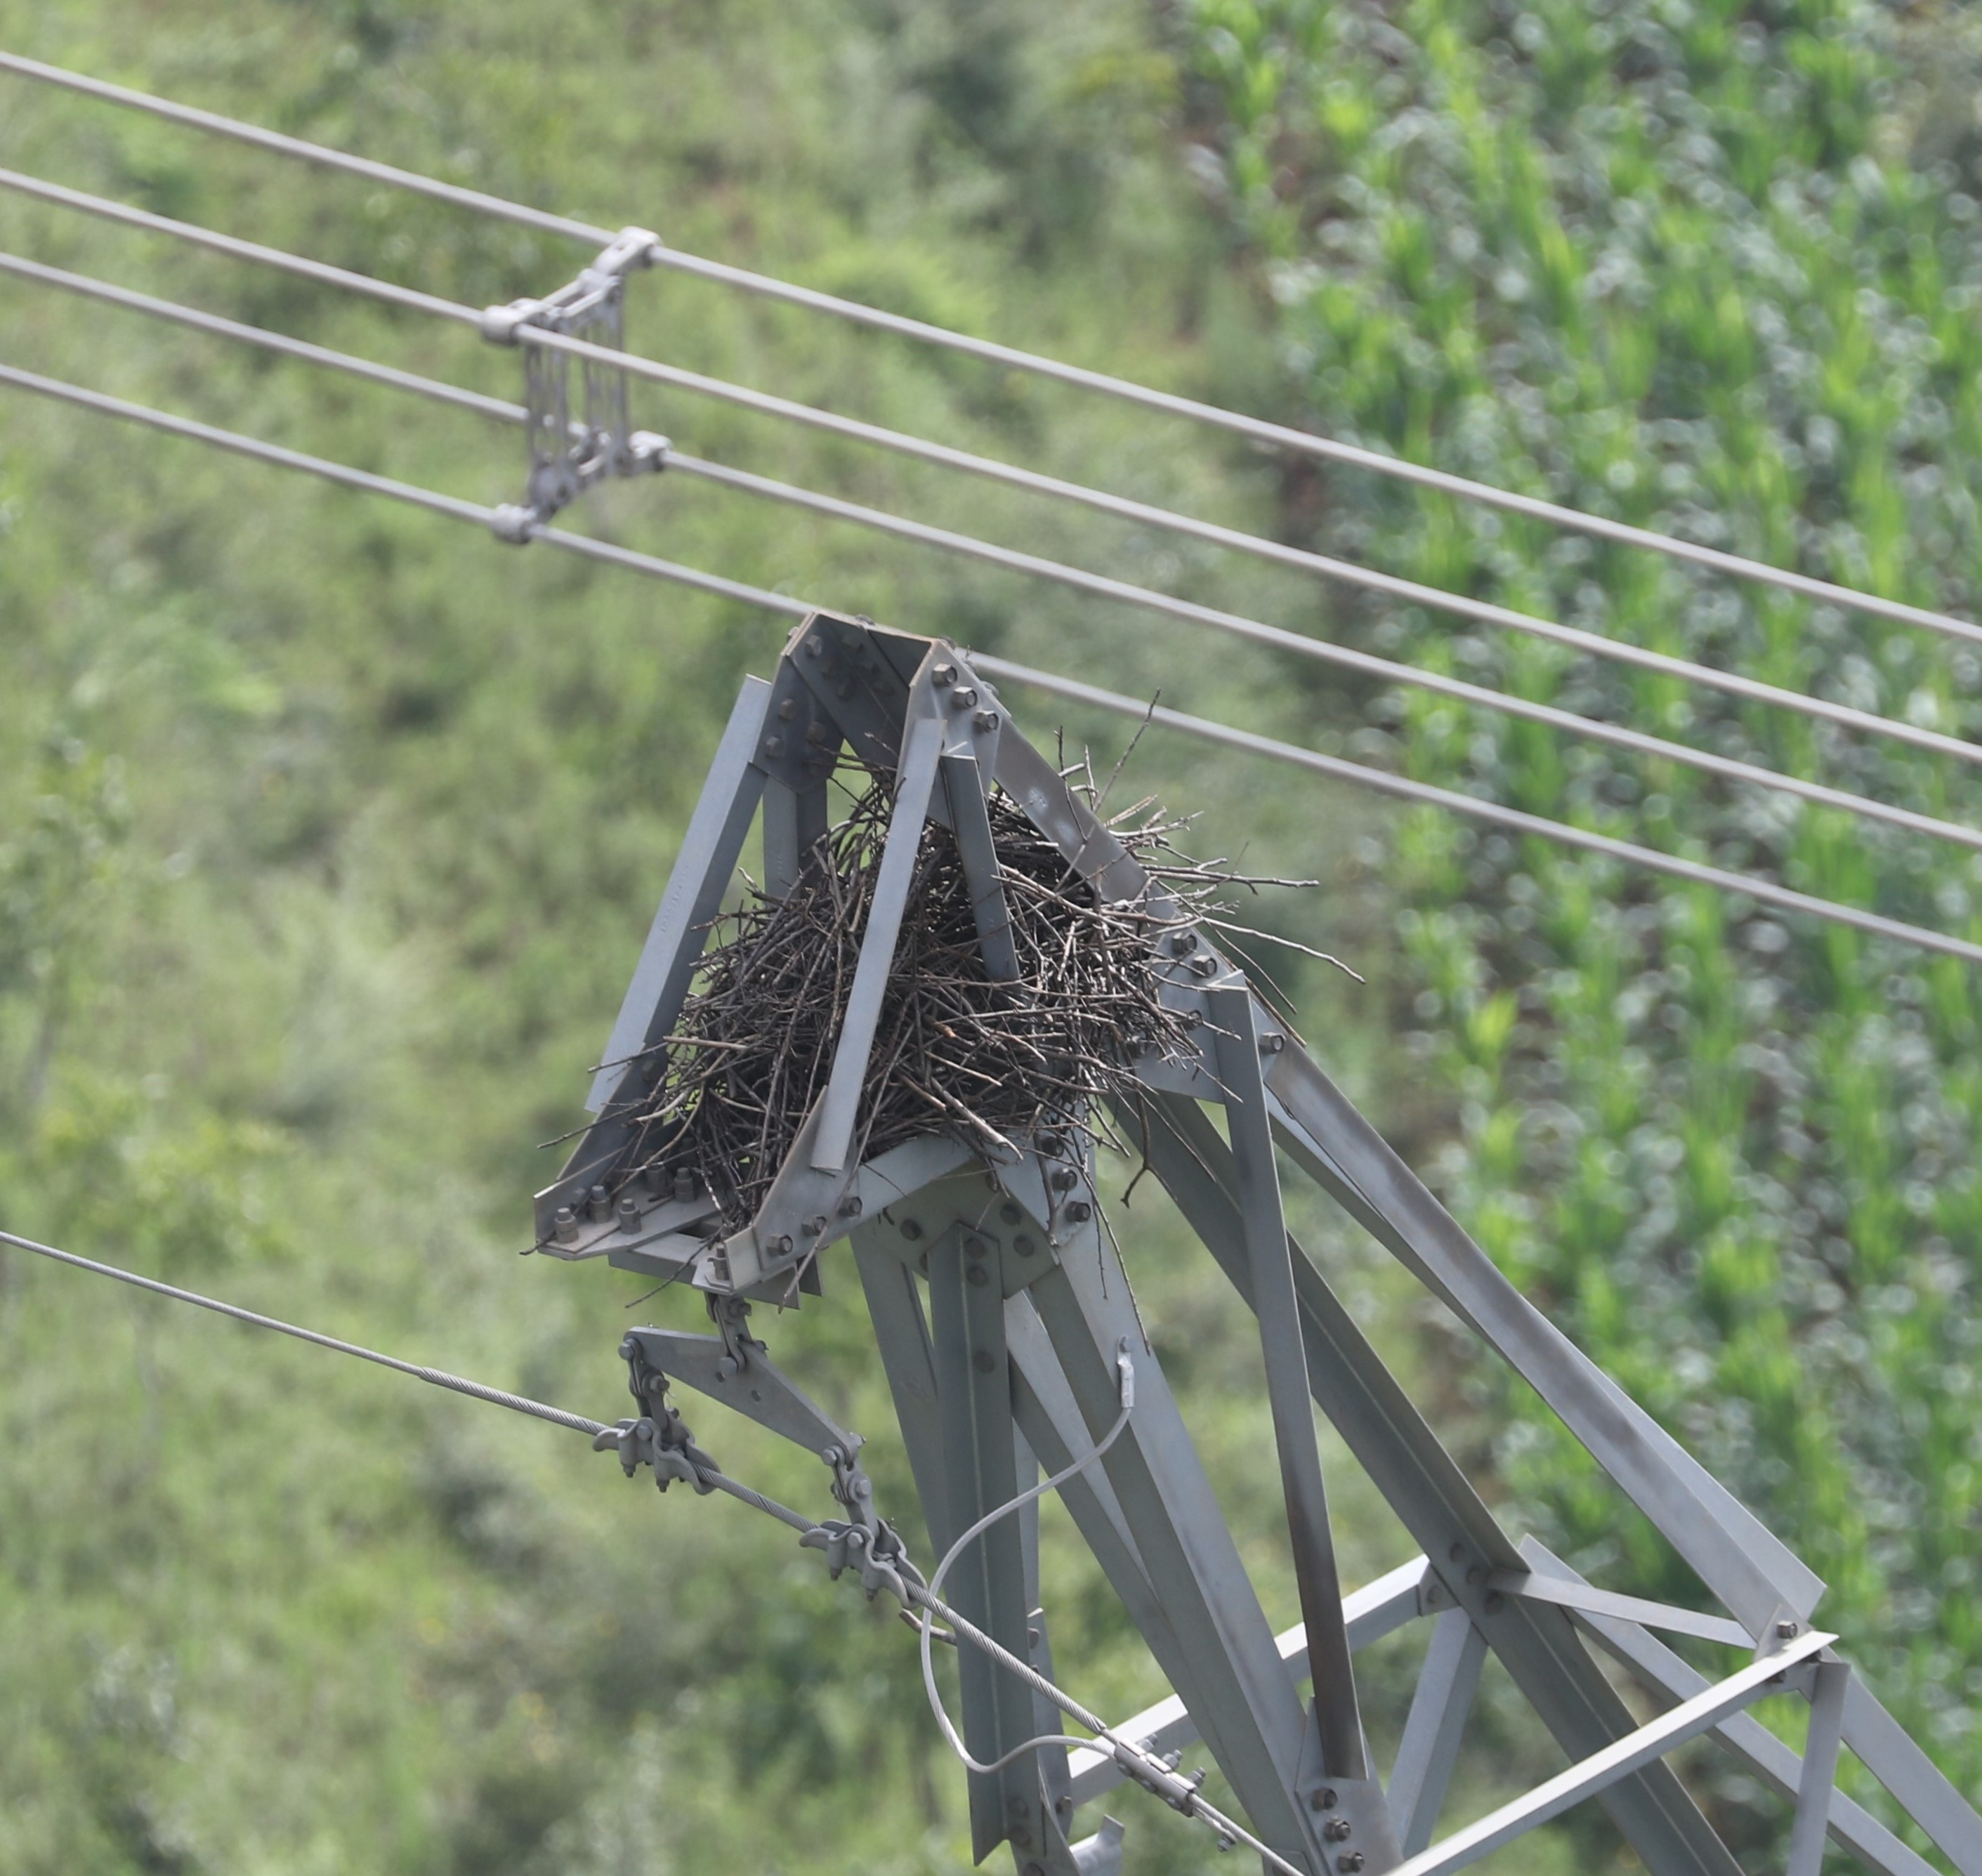niaowo: (622, 735, 1224, 1217)
